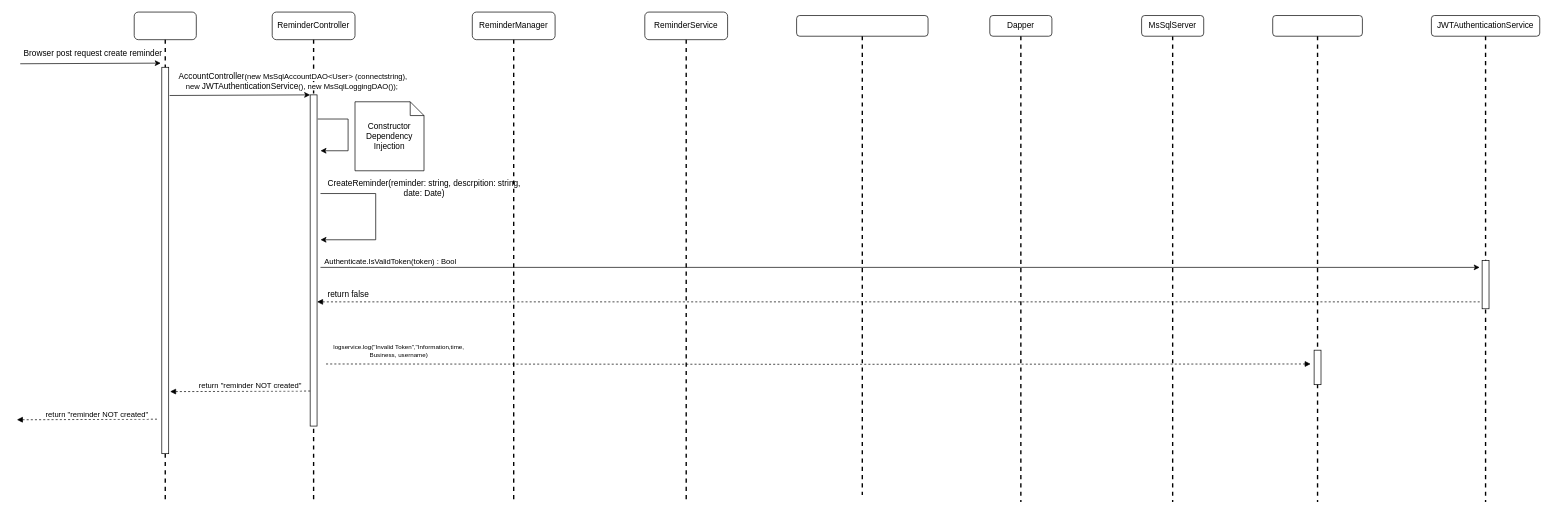
This 1552x515 diagram has some shape labels left out. The centre of each missing label's shape, as x and y in pixels:
Browser: (x=165, y=25)
ReminderMsSqlDao: (x=862, y=25)
SQLLoggingService: (x=1317, y=25)
